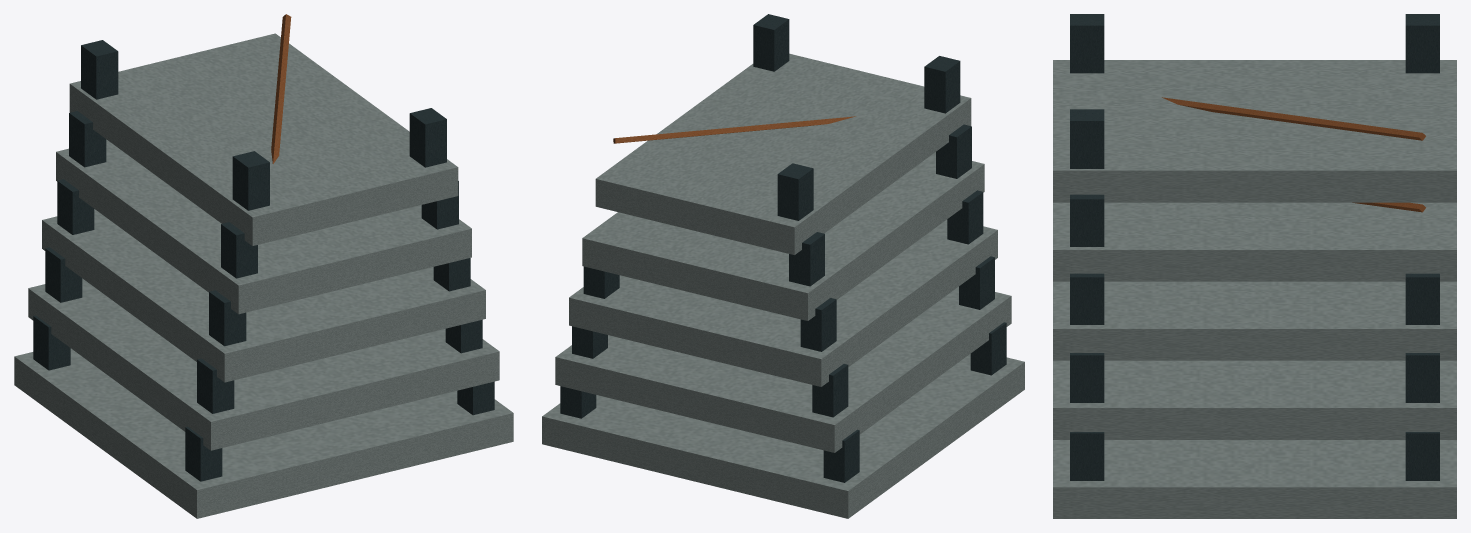
Rendered from ruin_tower_01.fbx.
The picture shows the model from 3 angles, left to right: view 1: azimuth 30°, elevation 25°; view 2: azimuth 150°, elevation 25°; view 3: azimuth 270°, elevation 25°; orthographic projection. The views are drawn at different scales.
Parts seen in each view (by area): view 1: ruin_tower_01_LOD0; view 2: ruin_tower_01_LOD0; view 3: ruin_tower_01_LOD0.
Boxes of the visible parts, bbox=[...] form: ruin_tower_01_LOD0: bbox=[14, 14, 513, 518]; ruin_tower_01_LOD0: bbox=[542, 14, 1024, 518]; ruin_tower_01_LOD0: bbox=[1053, 14, 1456, 518].
Size of what is drawn, in the model's own units: 1 by 1 by 1.
